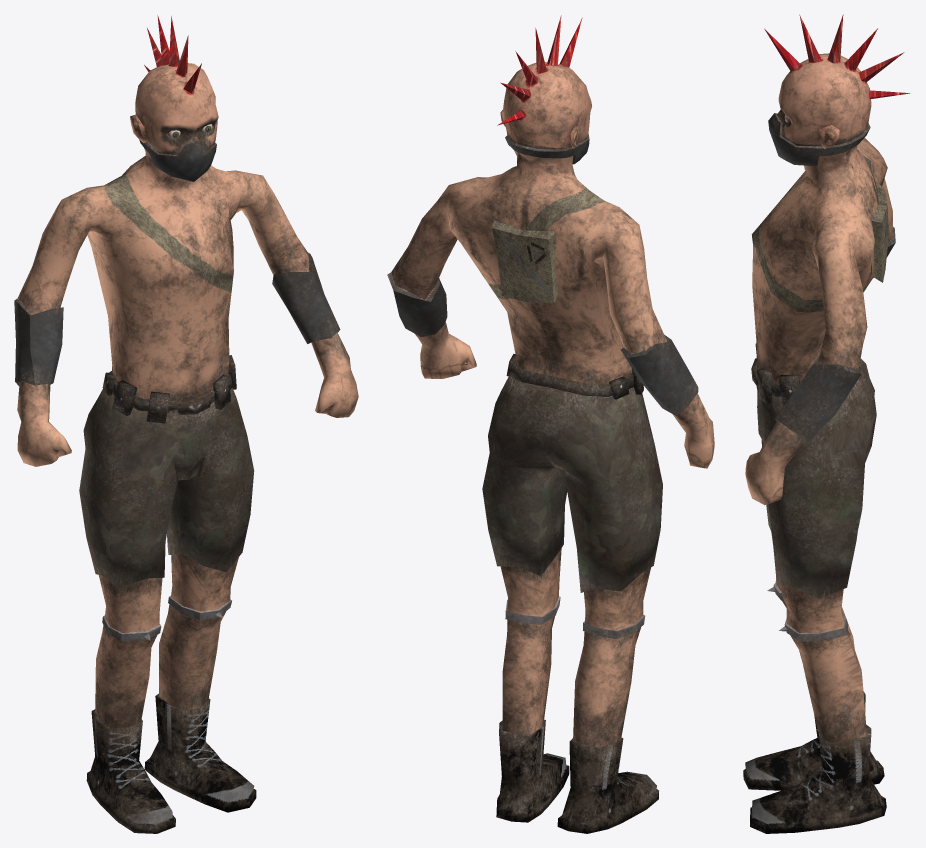
File: Anim_interruptor_npc2.0017.obj
The picture shows the model from 3 angles, left to right: view 1: azimuth 30°, elevation 25°; view 2: azimuth 150°, elevation 25°; view 3: azimuth 270°, elevation 25°; orthographic projection. The views are drawn at different scales.
Parts seen in each view (by area): view 1: polySurface1; view 2: polySurface1; view 3: polySurface1.
Part boxes in pixels (x1,y1,x2,y2): polySurface1: (14, 15, 358, 833); polySurface1: (387, 15, 714, 833); polySurface1: (743, 14, 909, 833).
Size of the model in its own units: 4.3 by 10.13 by 1.94.
